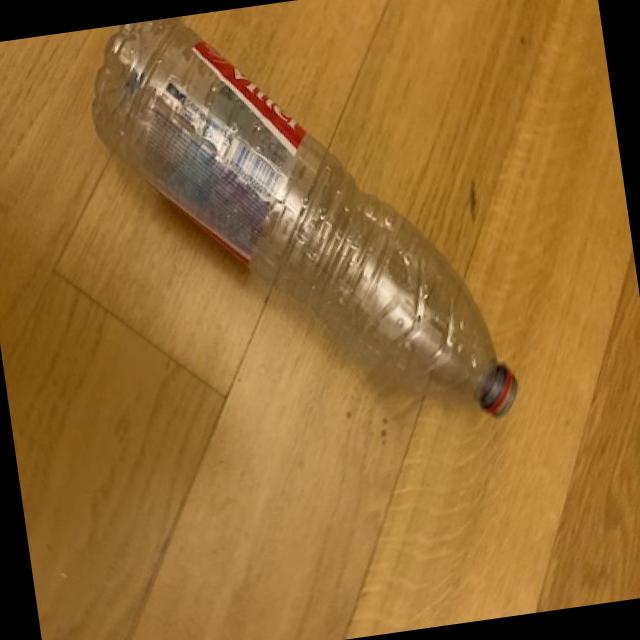plastic_bottle: (80, 0, 523, 469)
